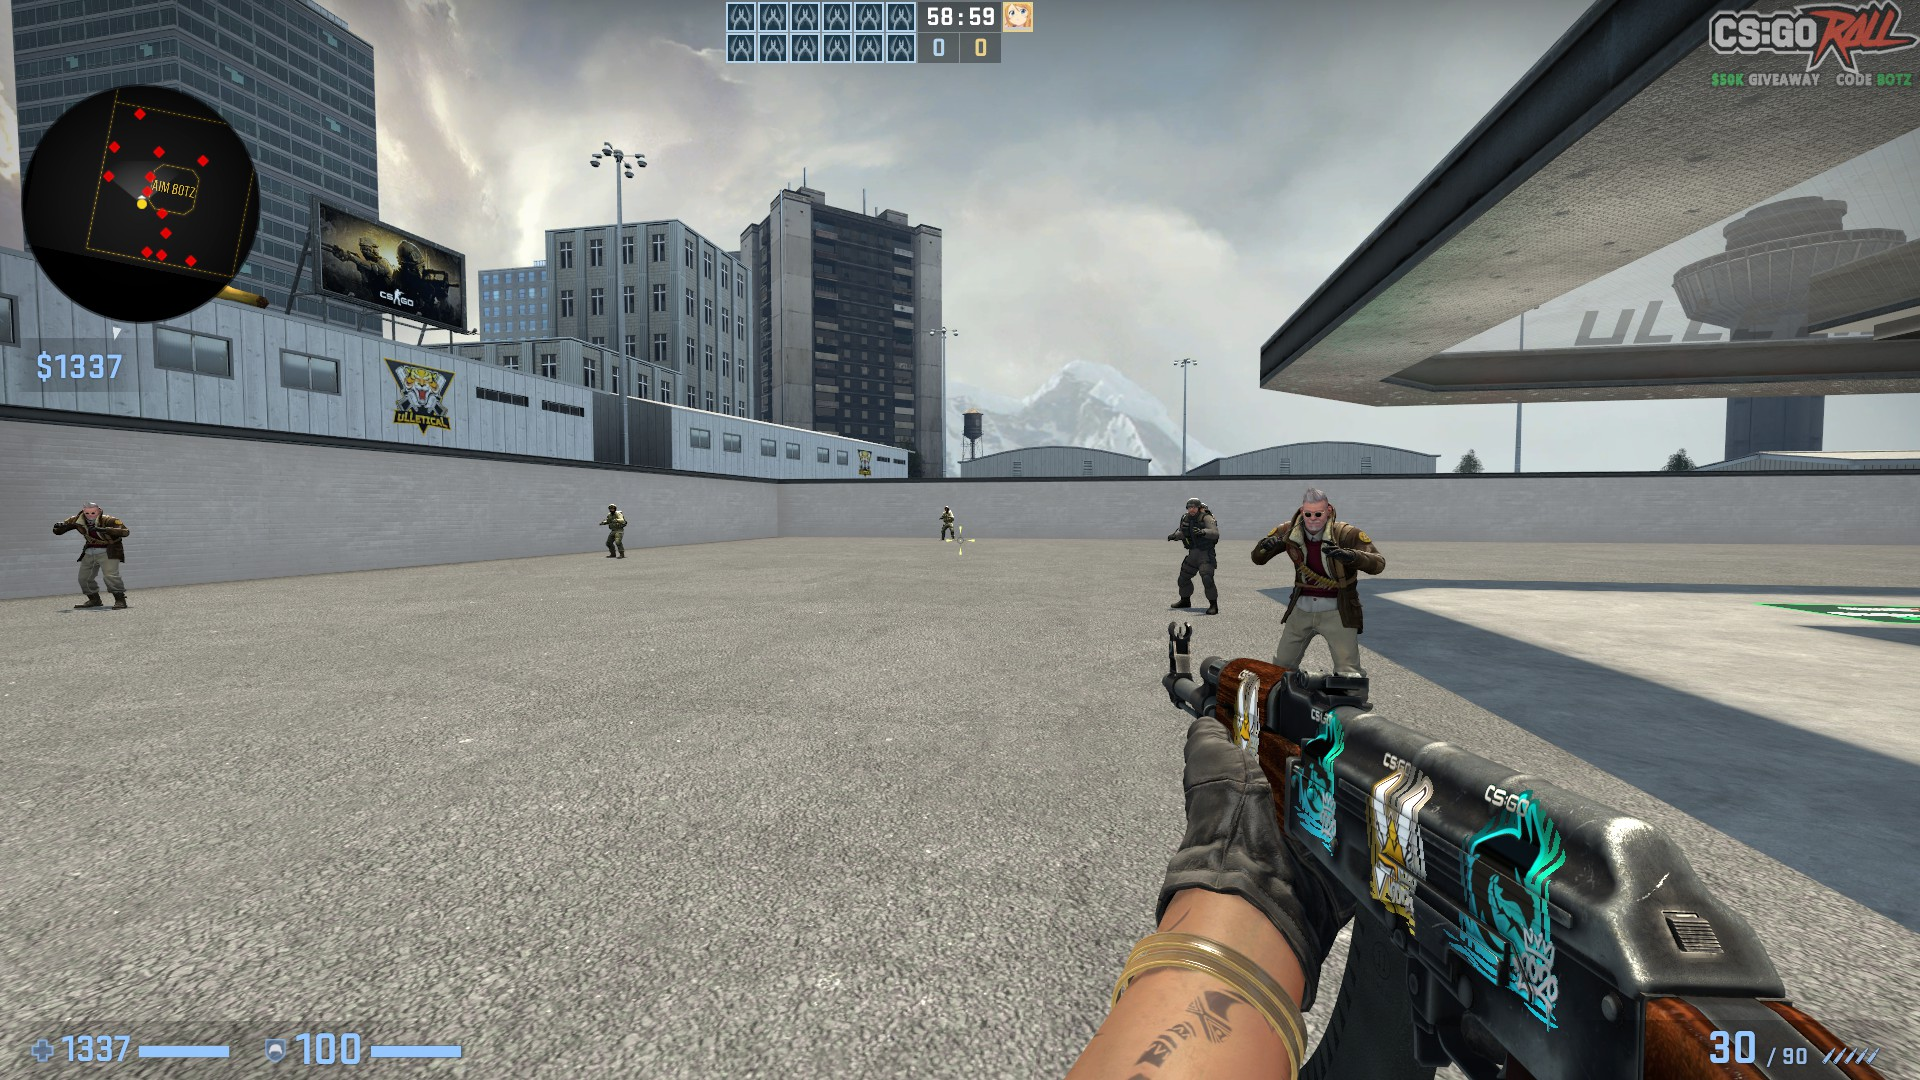head: (1302, 489, 1327, 530), (82, 501, 100, 519), (1186, 497, 1200, 513), (607, 503, 616, 513), (944, 504, 948, 512)
